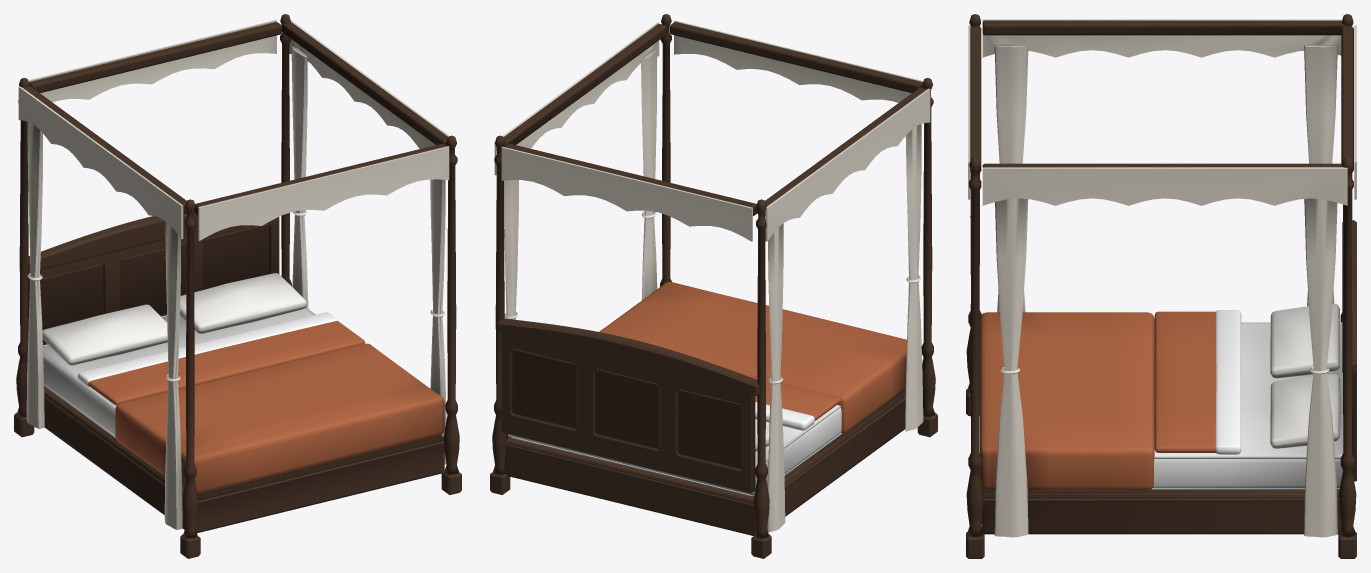
File: bedCanopy.glb
The picture shows the model from 3 angles, left to right: view 1: azimuth 30°, elevation 25°; view 2: azimuth 150°, elevation 25°; view 3: azimuth 270°, elevation 25°; orthographic projection. The views are drawn at different scales.
Parts seen in each view (by area): view 1: bedCanopy, duvet_flap; view 2: bedCanopy, duvet_flap; view 3: bedCanopy, duvet_flap.
Part boxes in pixels (<box>): bedCanopy: <box>14,14,461,558</box>; duvet_flap: <box>77,312,365,405</box>; bedCanopy: <box>490,14,937,558</box>; duvet_flap: <box>739,373,841,430</box>; bedCanopy: <box>966,14,1356,558</box>; duvet_flap: <box>1154,310,1241,454</box>.
Size of the model in its own units: 1.74 by 2.13 by 1.89.
